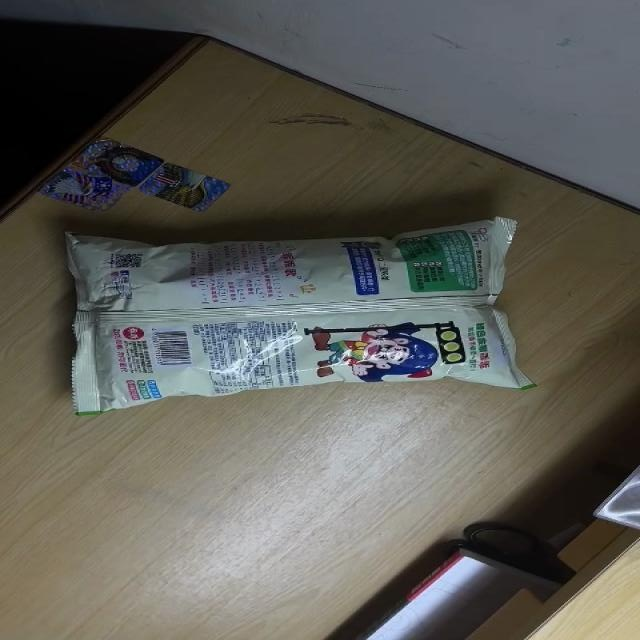Good-Luck: (58, 216, 534, 416)
